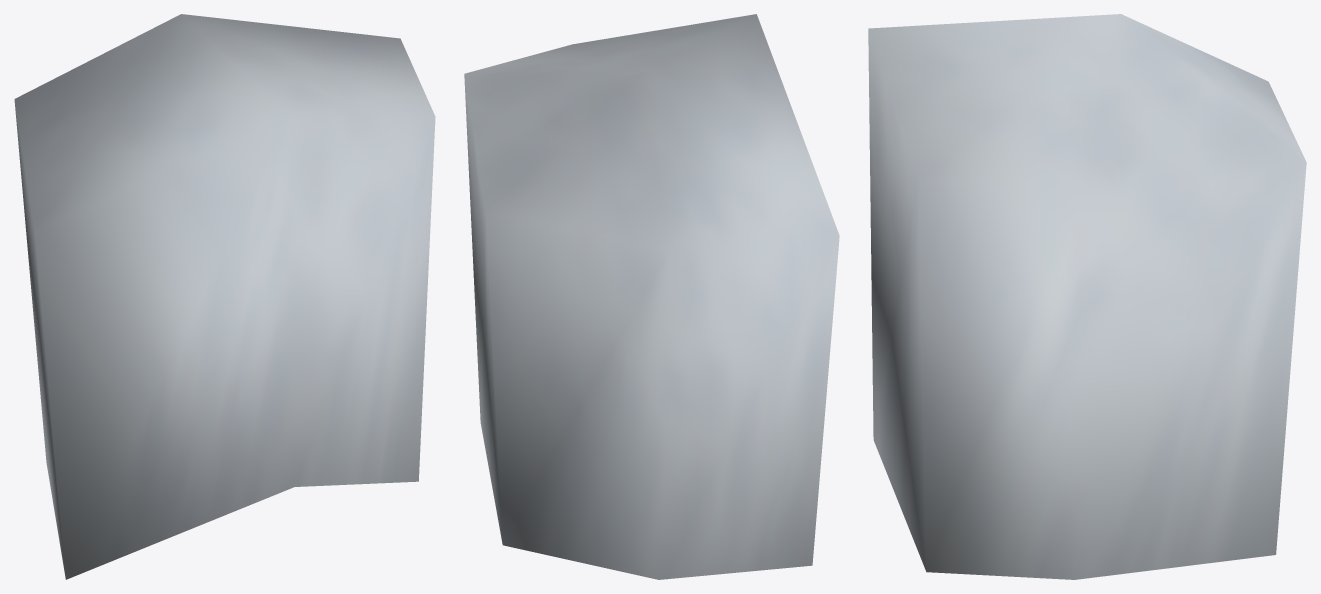
Rendered from Rock_9_Snow.fbx.
3 renders of one model, left to right at view 1: azimuth 30°, elevation 25°; view 2: azimuth 150°, elevation 25°; view 3: azimuth 270°, elevation 25°, orthographic. The views are drawn at different scales.
Visible parts, largest first — view 1: Rock_9_Snow; view 2: Rock_9_Snow; view 3: Rock_9_Snow.
Part boxes in pixels (<box>): Rock_9_Snow: <box>14,14,435,579</box>; Rock_9_Snow: <box>464,14,839,579</box>; Rock_9_Snow: <box>868,14,1306,579</box>.
Size of the model in its own units: 29.35 by 37.18 by 26.81.
